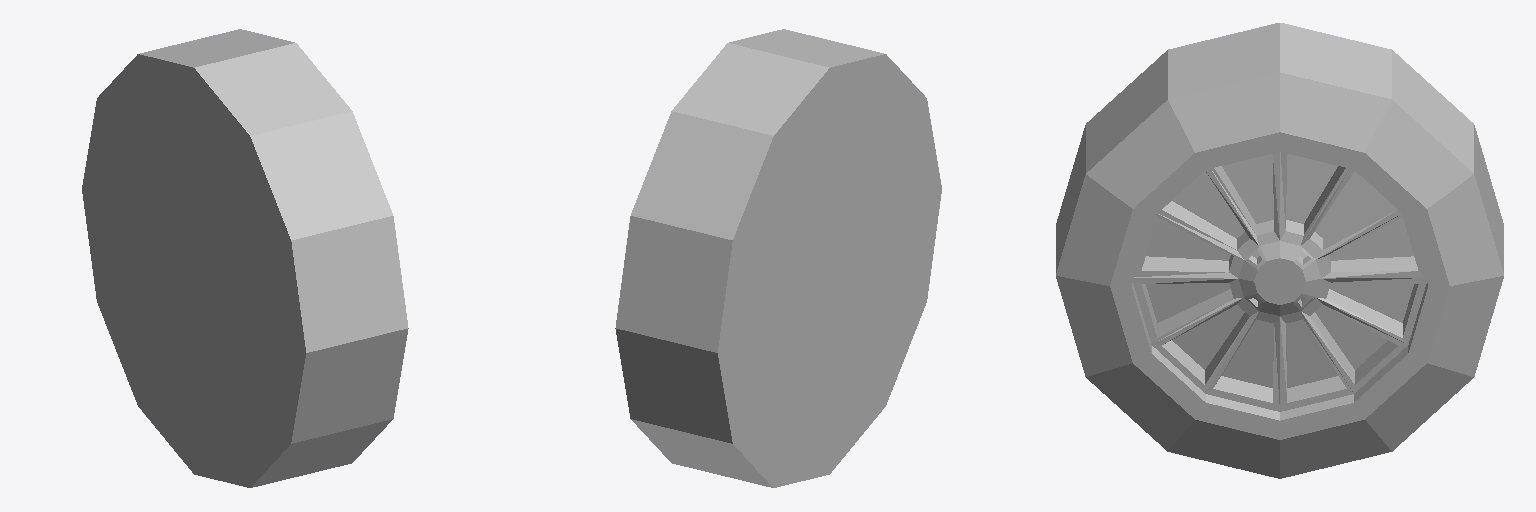
The model's file is Cop_FrontLeftWheel.obj.
3 renders of one model, left to right at view 1: azimuth 30°, elevation 25°; view 2: azimuth 150°, elevation 25°; view 3: azimuth 270°, elevation 25°, orthographic.
Parts seen in each view (by area): view 1: Cop_FrontLeftWheel; view 2: Cop_FrontLeftWheel; view 3: Cop_FrontLeftWheel.
Boxes of the visible parts, <box> form: Cop_FrontLeftWheel: <box>82,29,408,487</box>; Cop_FrontLeftWheel: <box>615,29,941,487</box>; Cop_FrontLeftWheel: <box>1056,23,1503,478</box>.
Bounding box in the file's own units: 0.1754 × 0.5506 × 0.5506.